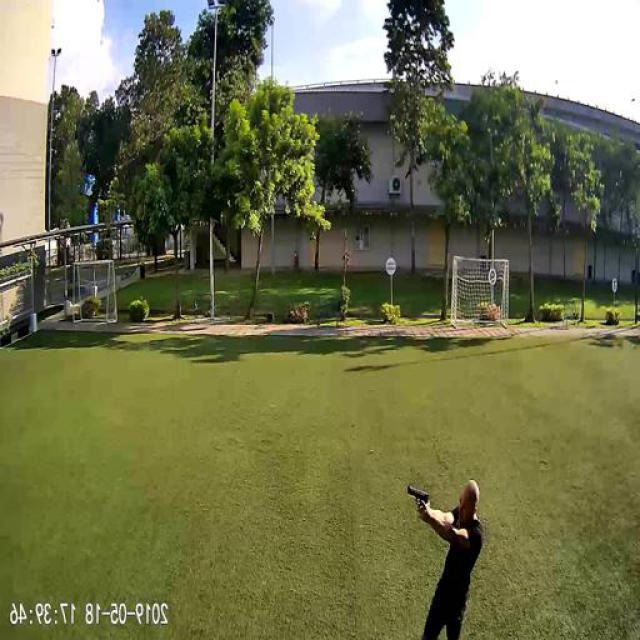Gun: (408, 482, 432, 502)
